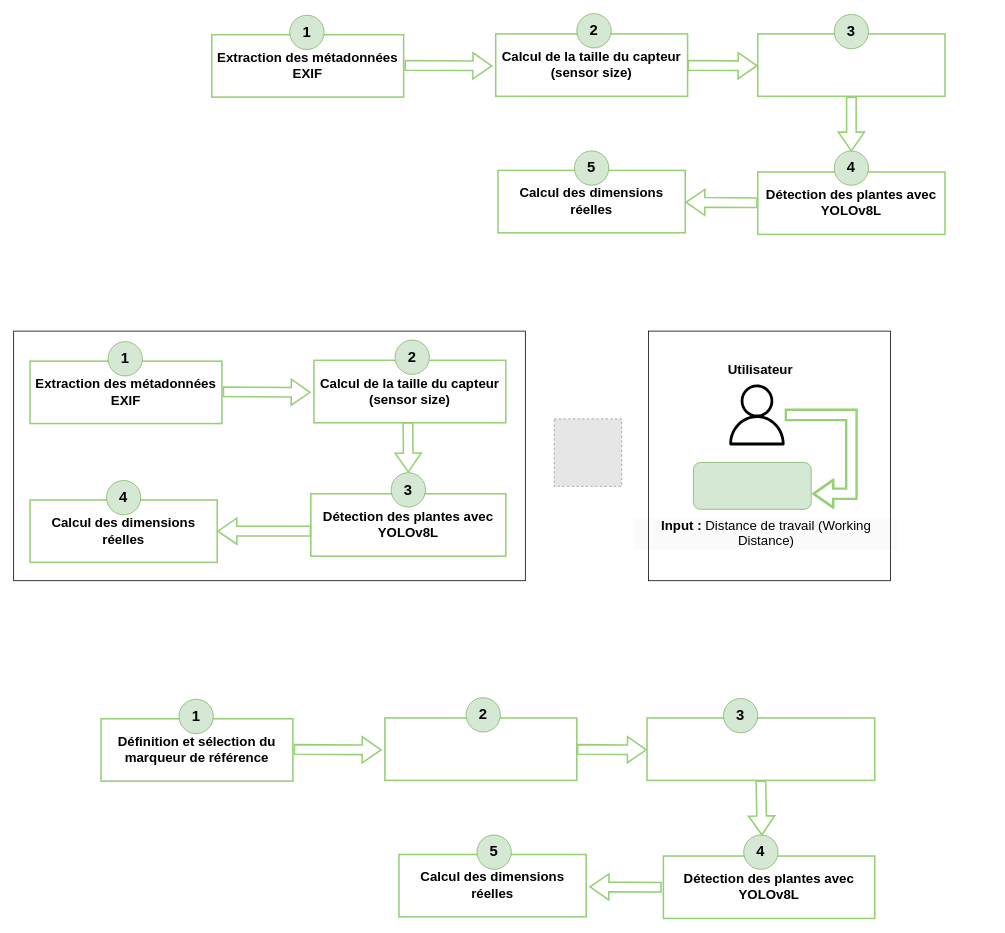
Image size: 1005x933. Some labels were removed from this diagram. Grey dashed boxes stand in for pictures. Each missing label, with the centre of its shape:
"Calcul de la distance de travail (Working Distance)" goes at pixel 851 65.
"Calcul de la taille du marqueur et calibration de l’image" goes at pixel 760 749.
"Chargement de l’image et détection du marqueur" goes at pixel 480 749.
"Valeur" goes at pixel 752 485.
